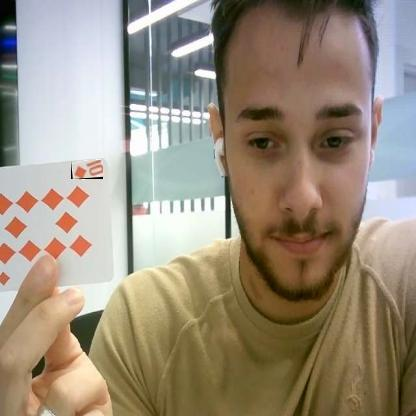10D: (71, 160, 103, 179)
